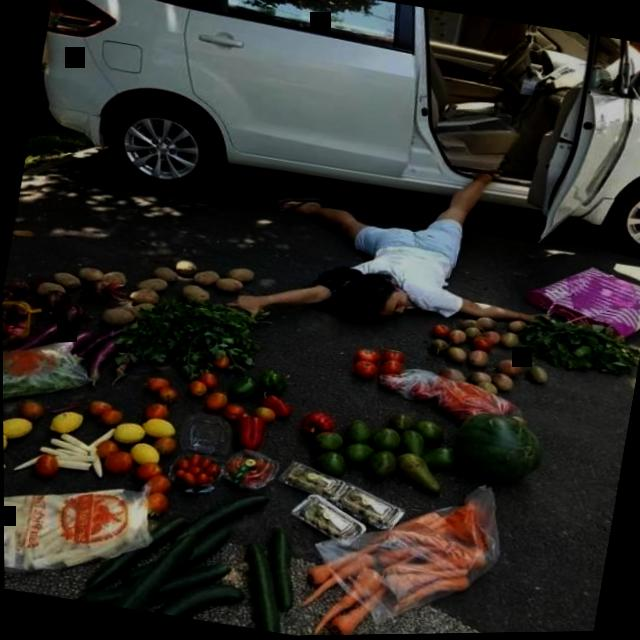Fall-Detected: (209, 116, 570, 370)
